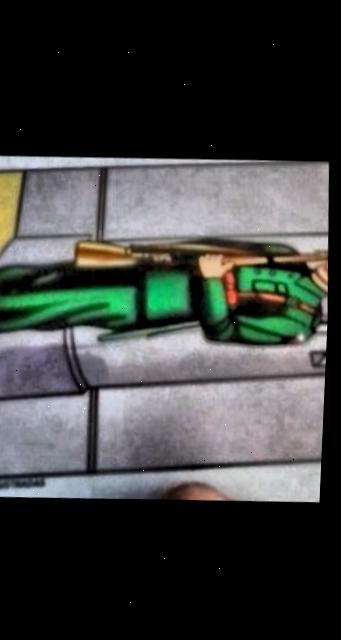El Soldado: (0, 158, 330, 476)
